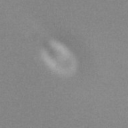normal: (1, 1, 43, 44)
